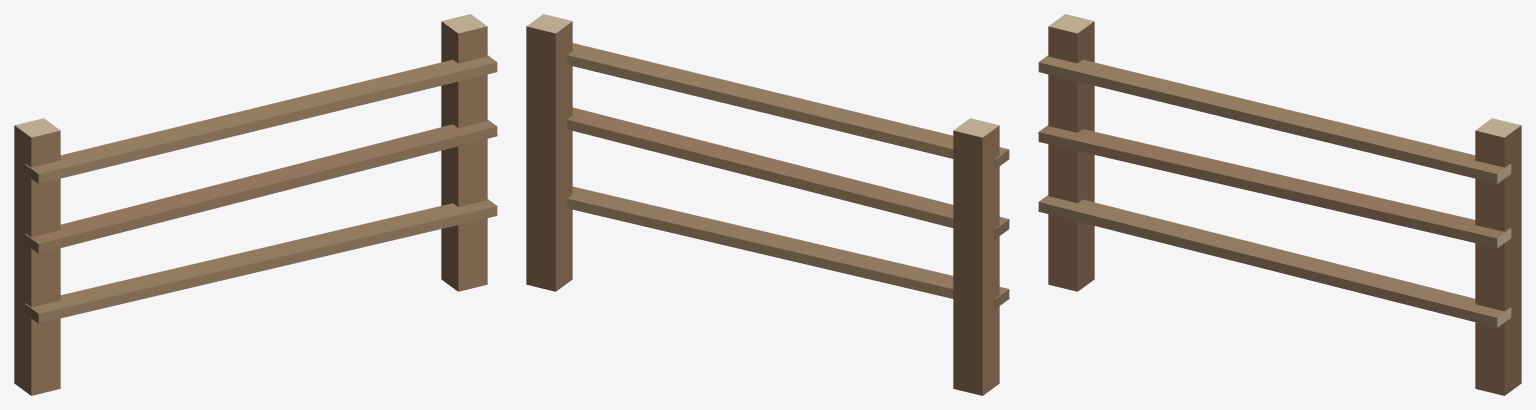
The model's file is fence.glb.
3 views of the same model, side by side, from view 1: azimuth 30°, elevation 25°; view 2: azimuth 150°, elevation 25°; view 3: azimuth 330°, elevation 25° (orthographic).
Parts seen in each view (by area): view 1: fence; view 2: fence; view 3: fence.
Part boxes in pixels (left/top/right/bottom): fence: left=14, top=14, right=497, bottom=395; fence: left=526, top=14, right=1009, bottom=395; fence: left=1038, top=14, right=1521, bottom=395.
Bounding box in the file's own units: 3.44 × 1.85 × 0.33.
